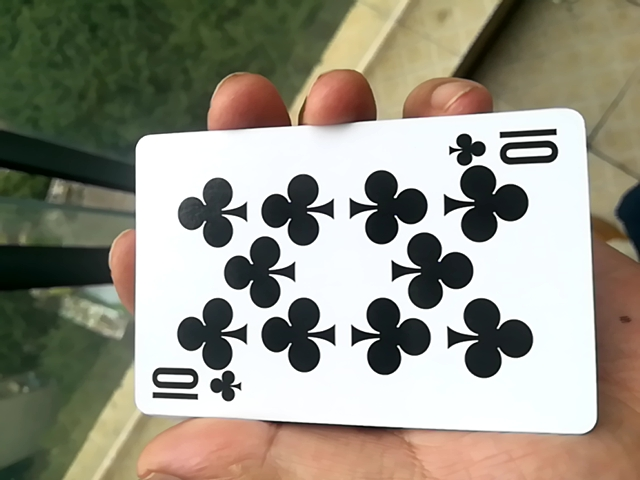mh 10: (125, 119, 593, 444)
